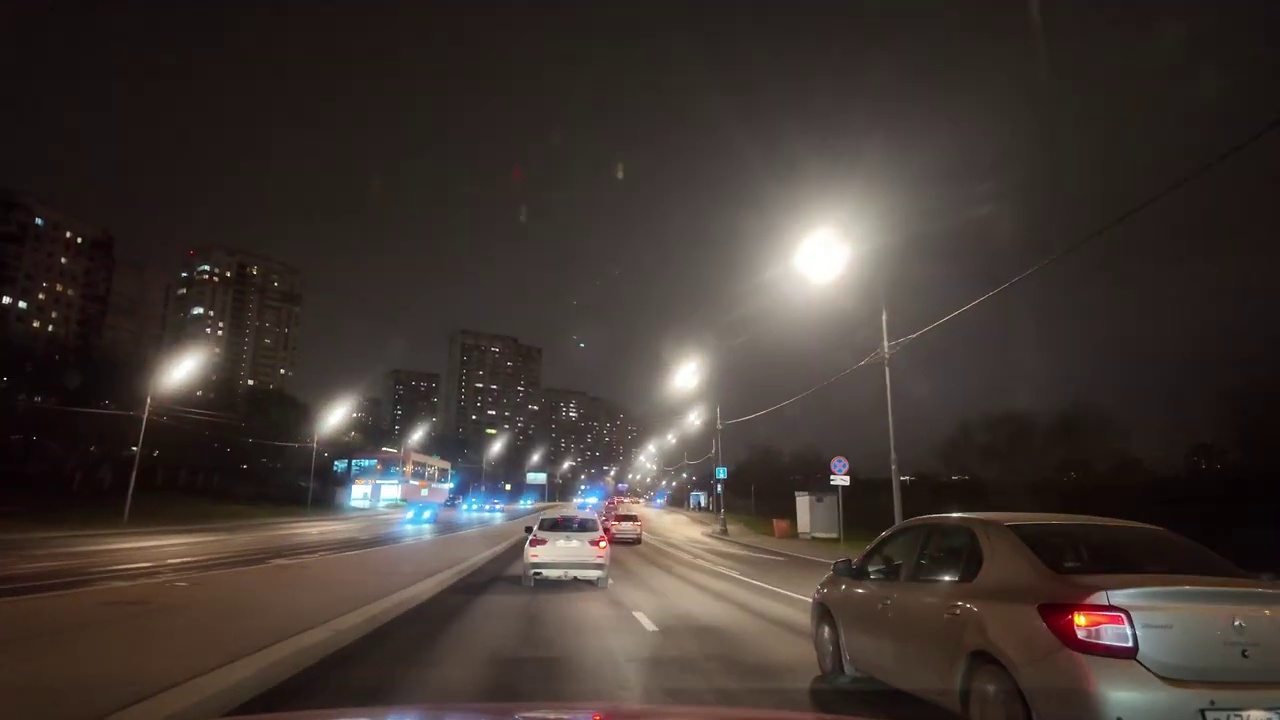acesa: (788, 223, 858, 291), (152, 343, 215, 400), (312, 392, 360, 441), (664, 351, 710, 401)
